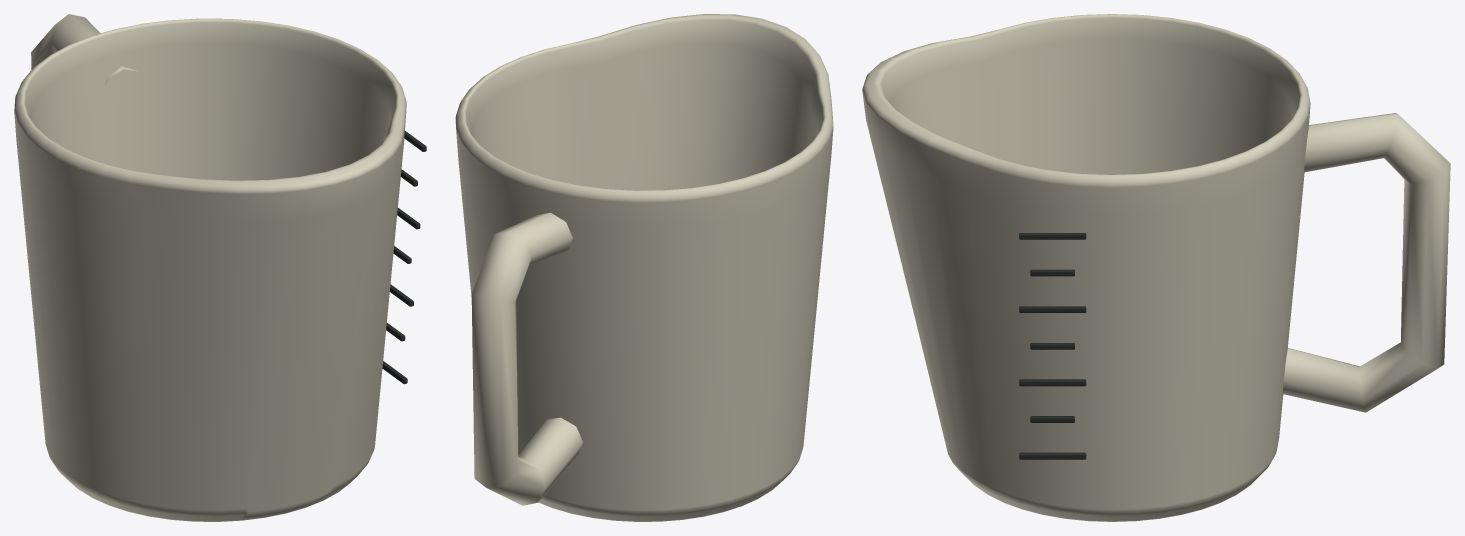
File: V10_MeasuringJug.fbx
3 views of the same model, side by side, from view 1: azimuth 30°, elevation 25°; view 2: azimuth 150°, elevation 25°; view 3: azimuth 270°, elevation 25° (orthographic). The views are drawn at different scales.
Visible parts, largest first — view 1: V10_MeasuringJug_CH09_Cream, V10_MeasuringJug_CH09_Rubber; view 2: V10_MeasuringJug_CH09_Cream; view 3: V10_MeasuringJug_CH09_Cream, V10_MeasuringJug_CH09_Rubber.
Part boxes in pixels (x1=…): V10_MeasuringJug_CH09_Cream: x1=14, y1=14, x2=406, y2=521; V10_MeasuringJug_CH09_Rubber: x1=382, y1=131, x2=426, y2=384; V10_MeasuringJug_CH09_Cream: x1=455, y1=14, x2=833, y2=521; V10_MeasuringJug_CH09_Cream: x1=862, y1=14, x2=1450, y2=521; V10_MeasuringJug_CH09_Rubber: x1=1019, y1=233, x2=1086, y2=459.
Bounding box in the file's own units: 15.99 × 16.76 × 23.71.
